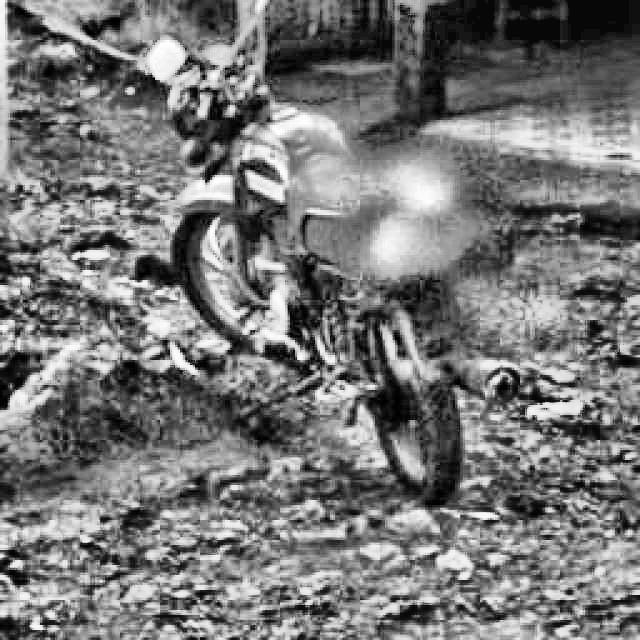motorcycle: (124, 15, 526, 496)
